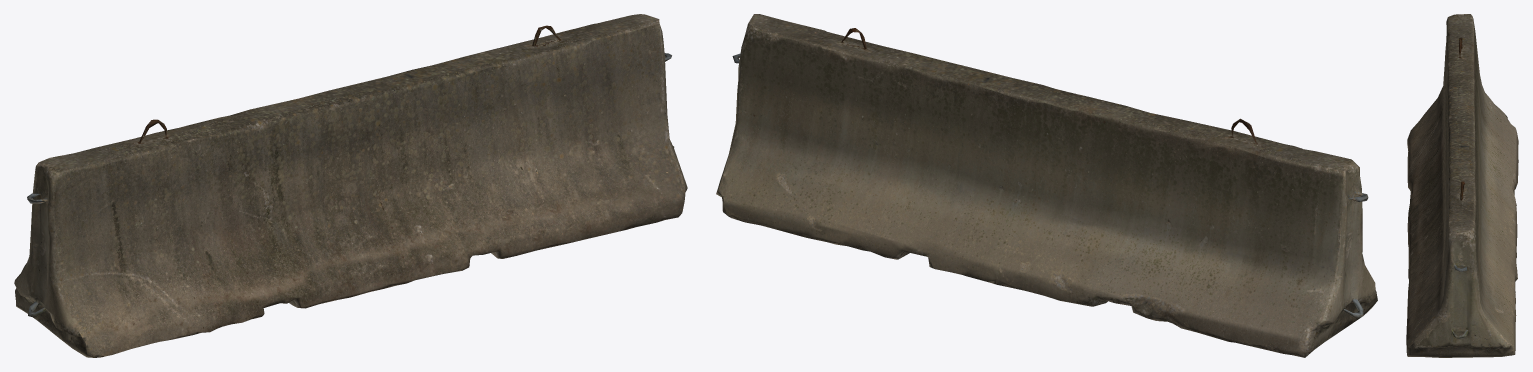
The model's file is SM_Barrier.glb.
The picture shows the model from 3 angles, left to right: view 1: azimuth 30°, elevation 25°; view 2: azimuth 150°, elevation 25°; view 3: azimuth 270°, elevation 25°; orthographic projection. The views are drawn at different scales.
Visible parts, largest first — view 1: SM_Barrier; view 2: SM_Barrier; view 3: SM_Barrier.
Part boxes in pixels (bbox=[...]): SM_Barrier: bbox=[14, 14, 687, 357]; SM_Barrier: bbox=[716, 14, 1377, 357]; SM_Barrier: bbox=[1406, 14, 1518, 357].
Bounding box in the file's own units: 318 × 91.35 × 64.62.
Materials: 1 (1 with a texture image).
